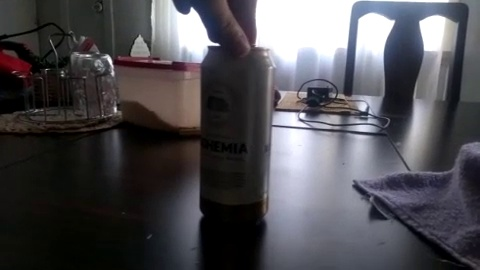bohemia: (189, 53, 267, 207)
